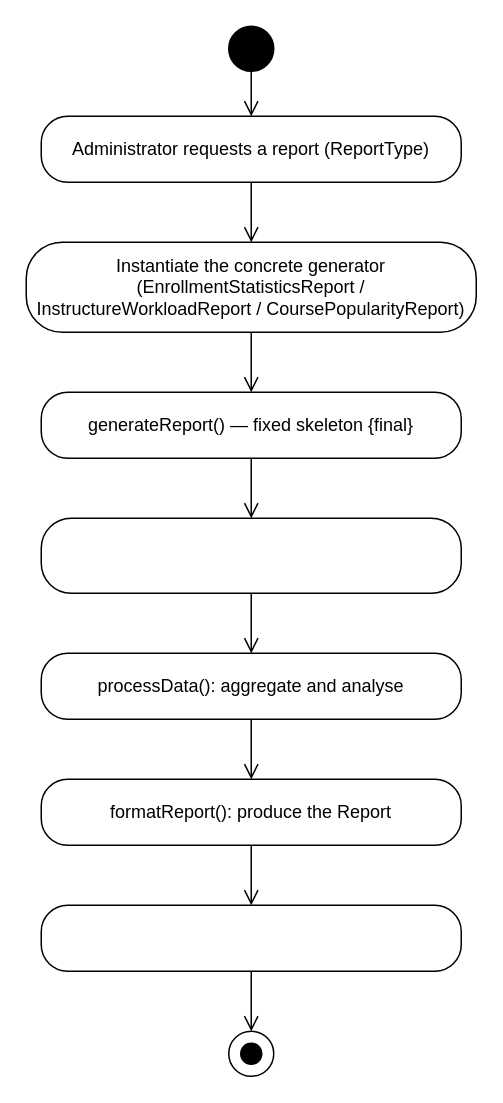
This 503x1103 diagram has some shape labels left out. The shapes that lost their labels are listed below. From the top down, each one's centre as x and y in pixels, then its label:
the point at 250,555: collectData(): query other services' APIs (read-only)
the point at 250,937: Return Report to Administrator
